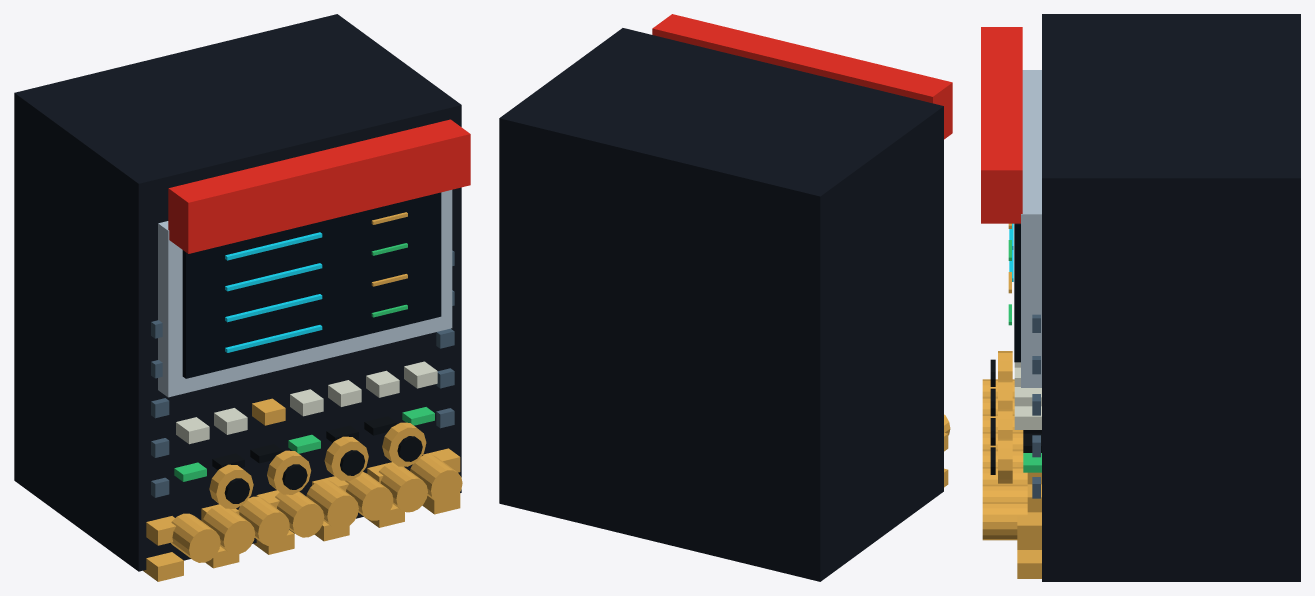
The model's file is 92_L92_W171CriticalAnchorFeedbackPatchStation.fbx.
The picture shows the model from 3 angles, left to right: view 1: azimuth 30°, elevation 25°; view 2: azimuth 150°, elevation 25°; view 3: azimuth 270°, elevation 25°; orthographic projection. The views are drawn at different scales.
Parts seen in each view (by area): view 1: L92_W171CriticalAnchorFeedbackPatchStati_Part_0000, L92_W171CriticalAnchorFeedbackPatchStati_Part_0002, L92_W171CriticalAnchorFeedbackPatchStati_Part_0012, L92_W171CriticalAnchorFeedbackPatchStati_Part_0004, L92_W171CriticalAnchorFeedbackPatchStati_Part_0001, L92_W171CriticalAnchorFeedbackPatchStati_Part_0005, L92_W171CriticalAnchorFeedbackPatchStati_Part_0007, L92_W171CriticalAnchorFeedbackPatchStati_Part_0003, L92_W171CriticalAnchorFeedbackPatchStati_Part_0009, L92_W171CriticalAnchorFeedbackPatchStati_Part_0006, L92_W171CriticalAnchorFeedbackPatchStati_Part_0008, L92_W171CriticalAnchorFeedbackPatchStati_Part_0019 (+3 smaller); view 2: L92_W171CriticalAnchorFeedbackPatchStati_Part_0000, L92_W171CriticalAnchorFeedbackPatchStati_Part_0012; view 3: L92_W171CriticalAnchorFeedbackPatchStati_Part_0000, L92_W171CriticalAnchorFeedbackPatchStati_Part_0012, L92_W171CriticalAnchorFeedbackPatchStati_Part_0001, L92_W171CriticalAnchorFeedbackPatchStati_Part_0005, L92_W171CriticalAnchorFeedbackPatchStati_Part_0004, L92_W171CriticalAnchorFeedbackPatchStati_Part_0007, L92_W171CriticalAnchorFeedbackPatchStati_Part_0002, L92_W171CriticalAnchorFeedbackPatchStati_Part_0009, L92_W171CriticalAnchorFeedbackPatchStati_Part_0019, L92_W171CriticalAnchorFeedbackPatchStati_Part_0006, L92_W171CriticalAnchorFeedbackPatchStati_Part_0013, L92_W171CriticalAnchorFeedbackPatchStati_Part_0015 (+1 smaller).
Part boxes in pixels (<box>): L92_W171CriticalAnchorFeedbackPatchStati_Part_0000: <box>14,14,461,571</box>; L92_W171CriticalAnchorFeedbackPatchStati_Part_0002: <box>182,192,441,378</box>; L92_W171CriticalAnchorFeedbackPatchStati_Part_0012: <box>168,119,470,253</box>; L92_W171CriticalAnchorFeedbackPatchStati_Part_0004: <box>143,212,460,581</box>; L92_W171CriticalAnchorFeedbackPatchStati_Part_0001: <box>158,190,452,397</box>; L92_W171CriticalAnchorFeedbackPatchStati_Part_0005: <box>275,454,462,537</box>; L92_W171CriticalAnchorFeedbackPatchStati_Part_0007: <box>176,361,437,444</box>; L92_W171CriticalAnchorFeedbackPatchStati_Part_0003: <box>225,232,322,352</box>; L92_W171CriticalAnchorFeedbackPatchStati_Part_0009: <box>151,250,454,497</box>; L92_W171CriticalAnchorFeedbackPatchStati_Part_0006: <box>174,243,434,481</box>; L92_W171CriticalAnchorFeedbackPatchStati_Part_0008: <box>212,416,396,469</box>; L92_W171CriticalAnchorFeedbackPatchStati_Part_0019: <box>382,422,426,466</box>; L92_W171CriticalAnchorFeedbackPatchStati_Part_0000: <box>499,28,943,581</box>; L92_W171CriticalAnchorFeedbackPatchStati_Part_0012: <box>652,14,952,139</box>; L92_W171CriticalAnchorFeedbackPatchStati_Part_0000: <box>1042,14,1300,581</box>; L92_W171CriticalAnchorFeedbackPatchStati_Part_0012: <box>981,27,1022,223</box>; L92_W171CriticalAnchorFeedbackPatchStati_Part_0001: <box>1021,70,1041,387</box>; L92_W171CriticalAnchorFeedbackPatchStati_Part_0005: <box>982,432,1027,540</box>; L92_W171CriticalAnchorFeedbackPatchStati_Part_0004: <box>982,223,1041,578</box>; L92_W171CriticalAnchorFeedbackPatchStati_Part_0007: <box>1014,362,1041,429</box>; L92_W171CriticalAnchorFeedbackPatchStati_Part_0002: <box>1014,223,1020,362</box>; L92_W171CriticalAnchorFeedbackPatchStati_Part_0009: <box>1032,314,1040,498</box>; L92_W171CriticalAnchorFeedbackPatchStati_Part_0019: <box>998,438,1012,483</box>; L92_W171CriticalAnchorFeedbackPatchStati_Part_0006: <box>1008,240,1041,472</box>; L92_W171CriticalAnchorFeedbackPatchStati_Part_0013: <box>998,351,1012,380</box>; L92_W171CriticalAnchorFeedbackPatchStati_Part_0015: <box>998,380,1012,409</box>.
Bounding box in the file's own units: 112 × 130 × 92.4.
